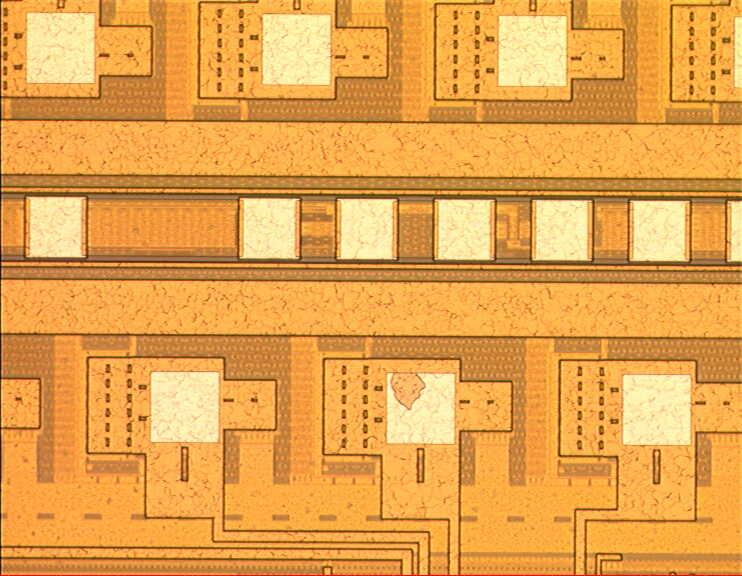BLOCK ETCH: (384, 367, 433, 416)
